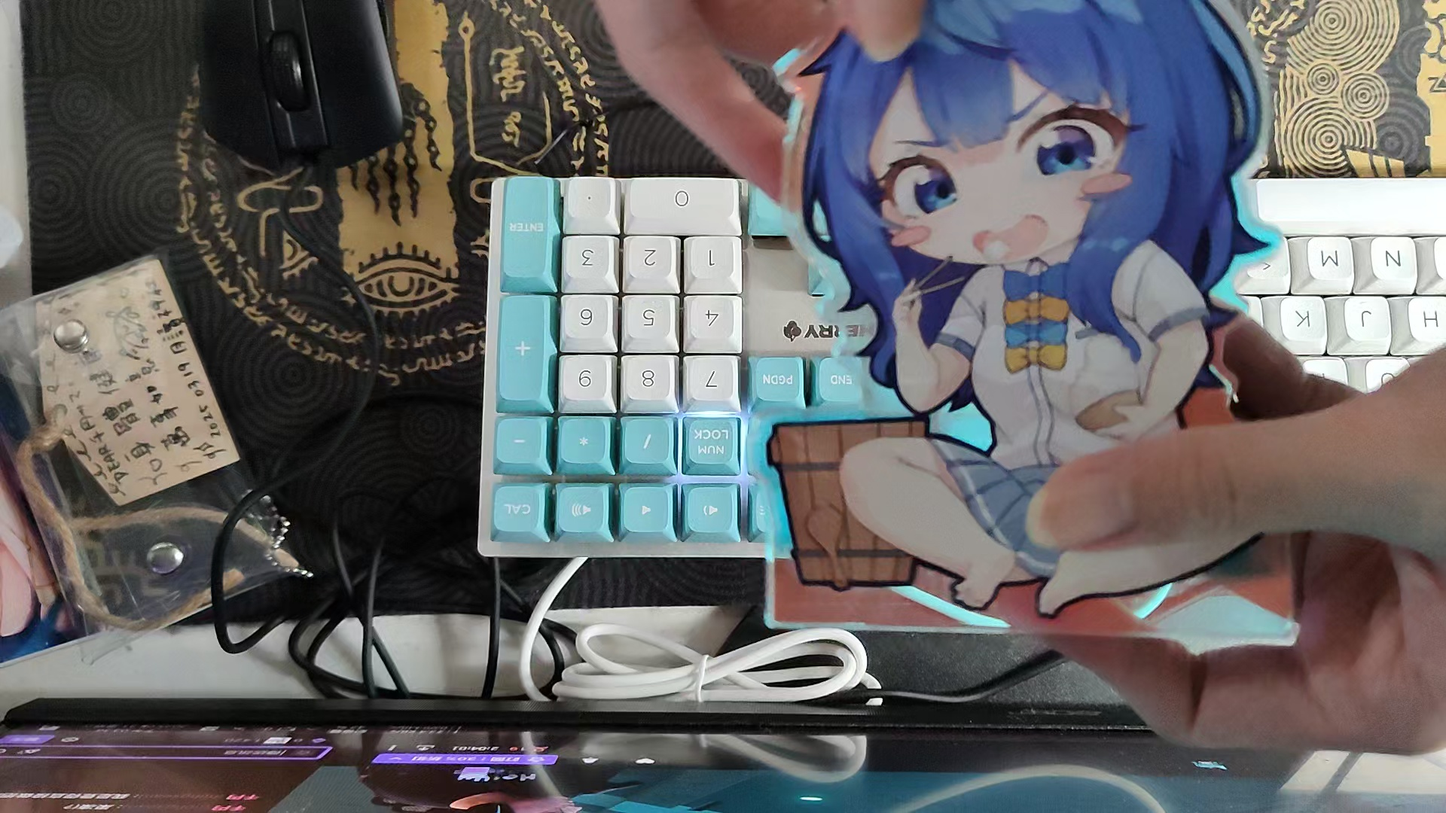Yanami-anna: (746, 0, 1297, 647)
